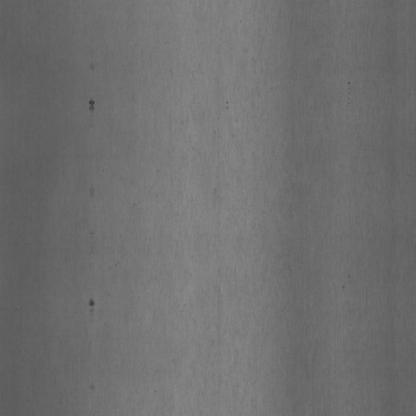oil_spot: (84, 91, 98, 122), (88, 292, 99, 326), (89, 59, 98, 73)
